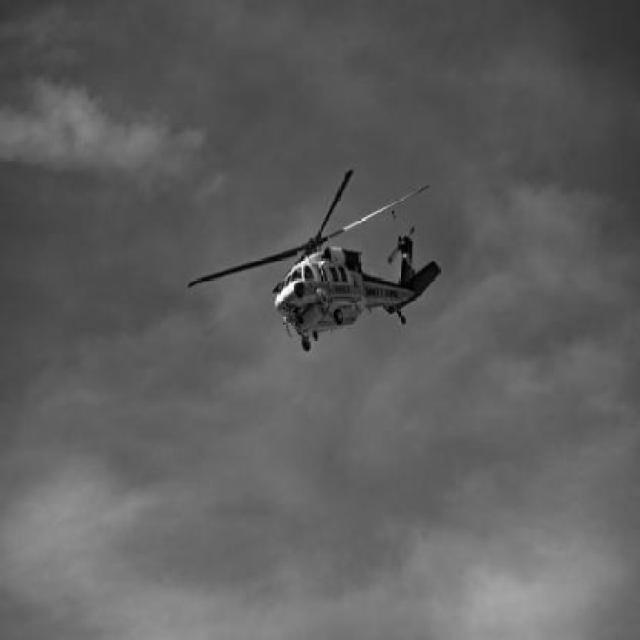helikopter: (170, 160, 444, 369)
